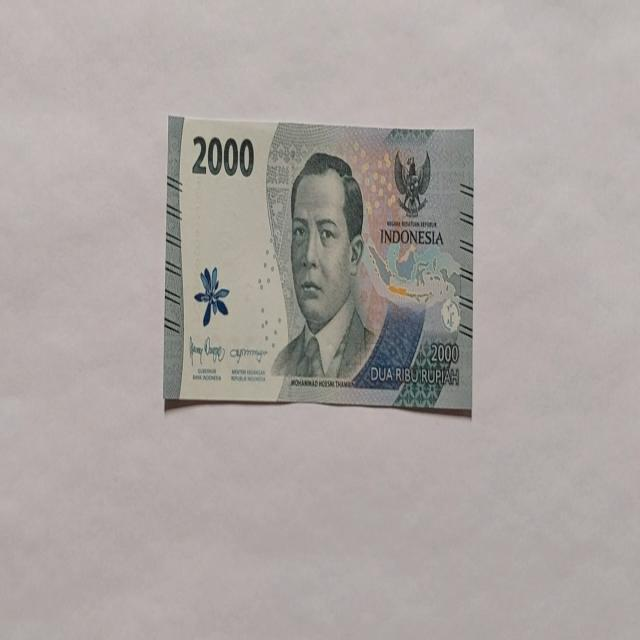dua ribu rupiah: (164, 114, 474, 412), (269, 150, 376, 382)
